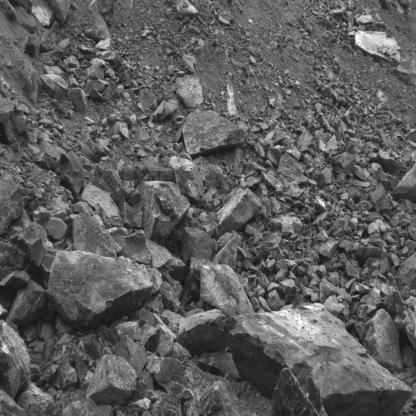stone: (228, 305, 411, 405), (47, 252, 152, 326), (138, 181, 191, 246), (182, 109, 251, 155), (355, 311, 401, 376), (199, 265, 254, 318), (86, 353, 136, 406), (0, 319, 33, 398), (212, 188, 261, 240), (268, 368, 319, 416), (70, 213, 120, 259), (179, 310, 228, 355), (80, 184, 123, 228), (0, 176, 30, 235), (151, 241, 191, 280), (8, 290, 47, 327), (198, 380, 238, 416), (96, 170, 131, 210), (147, 354, 184, 391), (56, 149, 85, 196), (114, 336, 147, 377), (0, 239, 29, 282), (158, 382, 194, 416), (18, 386, 58, 416), (180, 228, 214, 263), (112, 233, 151, 263), (158, 283, 189, 317), (8, 222, 48, 247), (393, 159, 416, 202), (175, 74, 203, 107), (396, 251, 416, 297), (278, 154, 310, 182), (214, 237, 238, 272), (51, 363, 77, 392), (40, 74, 66, 103), (187, 162, 206, 201), (0, 271, 30, 294), (323, 295, 350, 320), (271, 213, 302, 234), (26, 238, 46, 270), (372, 183, 392, 215), (45, 215, 68, 241), (67, 88, 89, 115), (139, 324, 160, 352), (374, 169, 399, 190), (329, 153, 355, 173), (95, 157, 119, 178), (297, 132, 318, 156), (385, 290, 406, 313), (115, 322, 141, 340), (37, 364, 59, 385), (311, 168, 334, 188), (319, 235, 339, 258), (364, 294, 383, 315), (122, 201, 134, 231), (322, 134, 339, 155), (279, 279, 298, 296), (199, 188, 215, 206), (345, 261, 361, 279), (339, 238, 353, 254), (246, 176, 261, 189), (274, 259, 288, 272), (313, 199, 326, 212), (273, 269, 286, 282), (254, 143, 265, 158), (292, 189, 305, 201), (368, 222, 380, 235), (267, 151, 277, 166), (267, 259, 276, 273), (240, 178, 249, 190)
